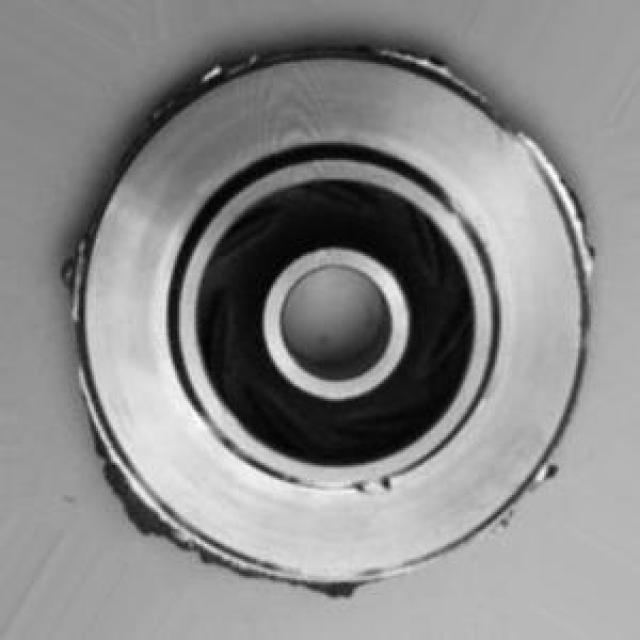Defect: (348, 476, 376, 507)
